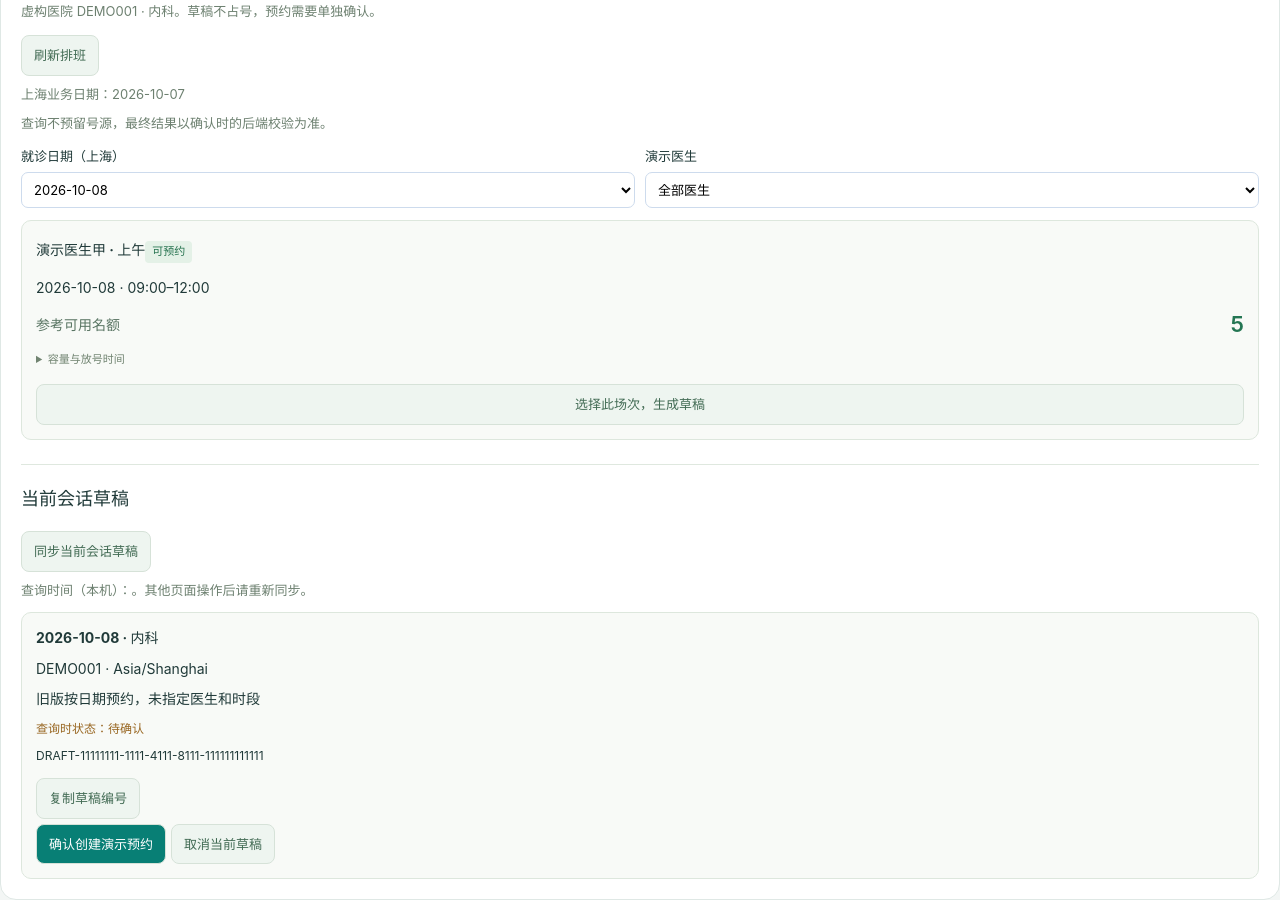
Test: appointment explicit confirmation and uncertain results › storage failure prevents sending a write without a recovery journal
(page scrolled)
Click the button "确认创建演示预约" at x=101, y=844, box [36,824,166,864]
(page scrolled)
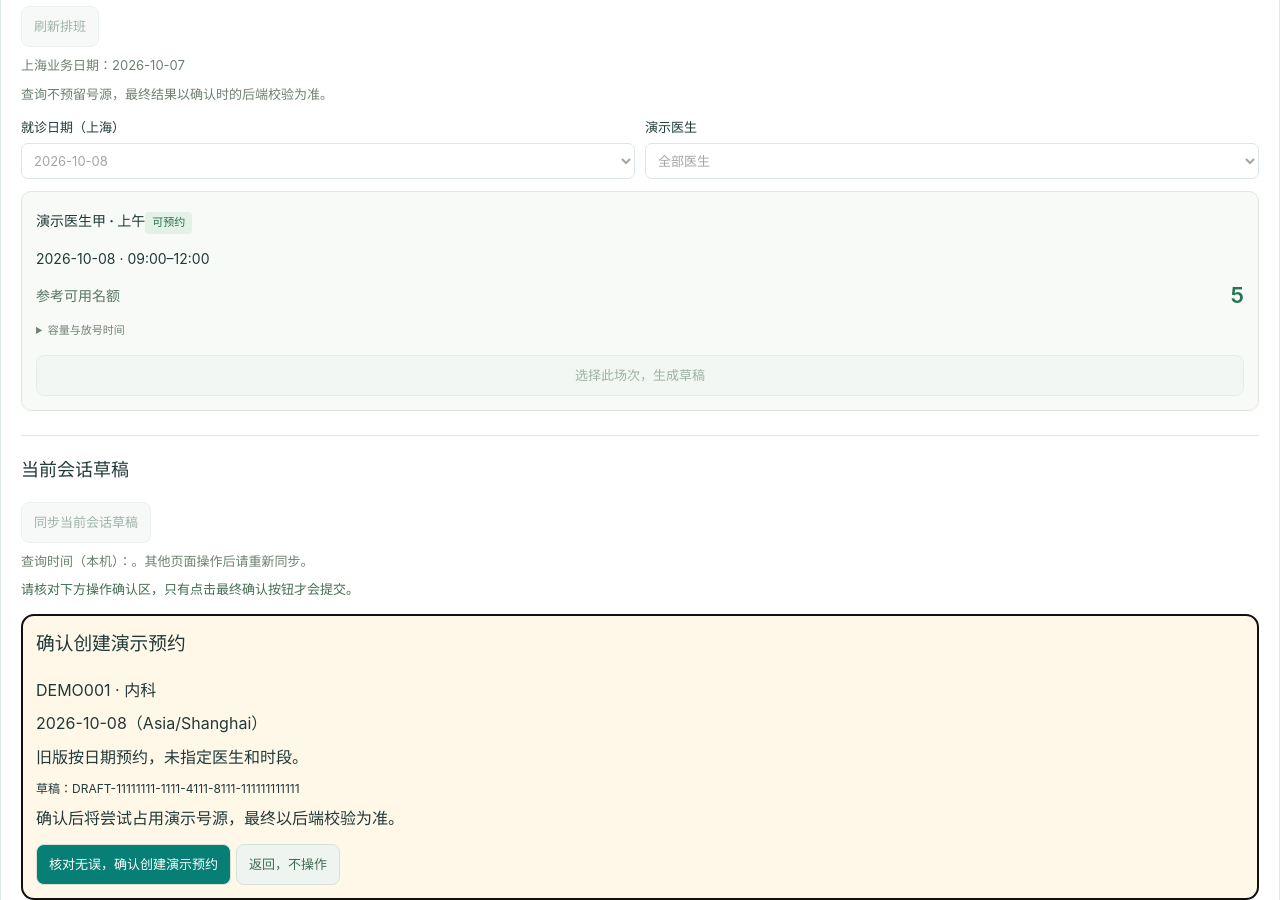
Click the button "核对无误，确认创建演示预约" at x=134, y=865, box [36,844,231,885]
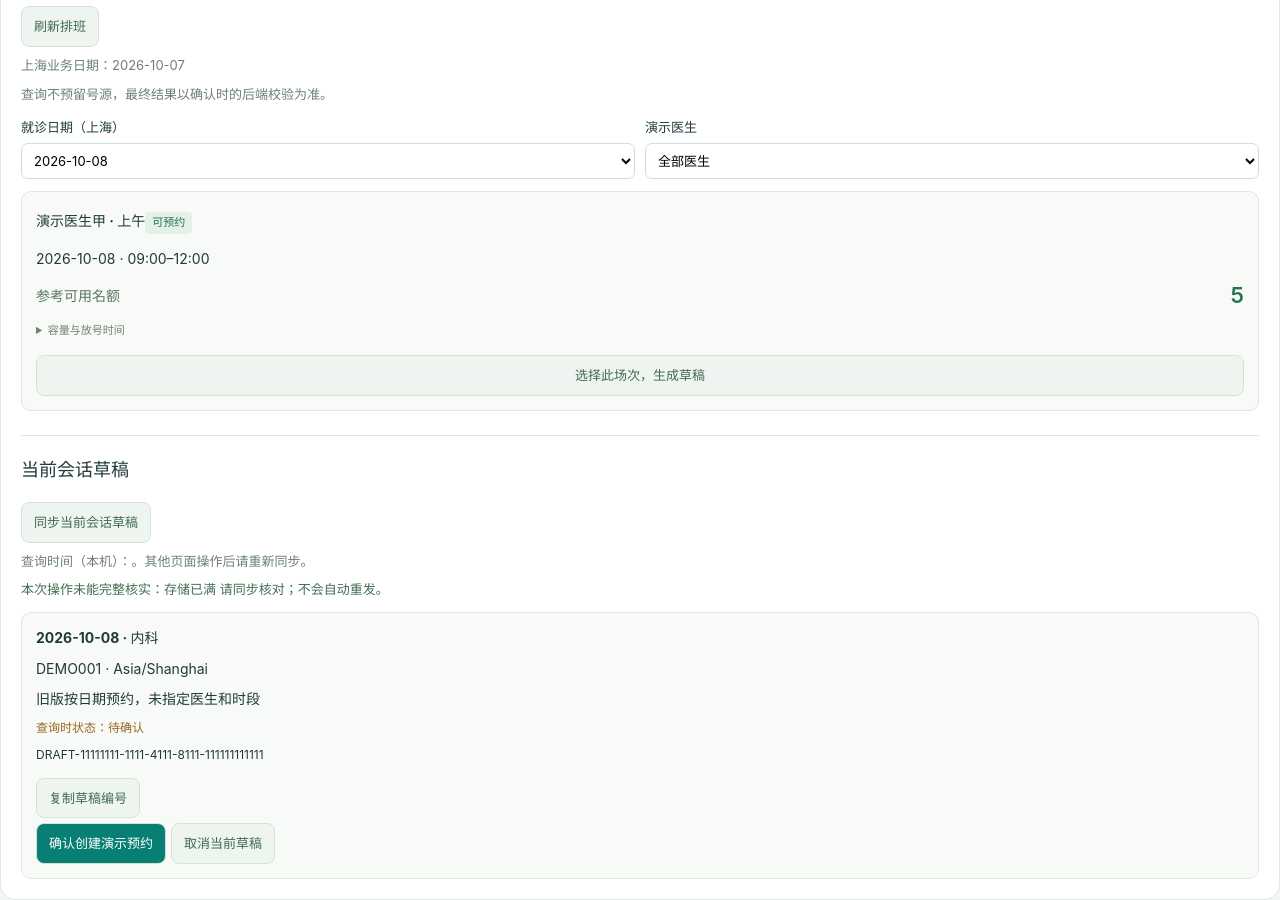
Expected: the text "存储已满" is shown, [21,581,389,597]
